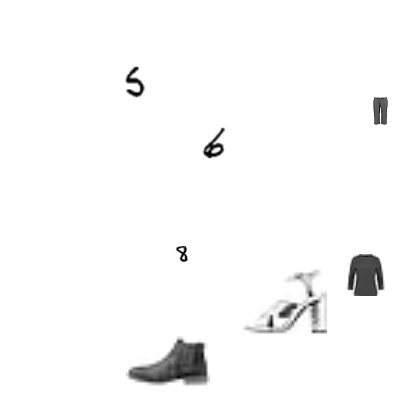5: (113, 61, 155, 103)
6: (192, 125, 234, 167)
8: (171, 242, 193, 264)
Ankle_boot: (126, 319, 210, 403)
Pullover: (344, 254, 386, 296)
Sandal: (243, 258, 327, 342)
Trouser: (366, 97, 394, 125)
